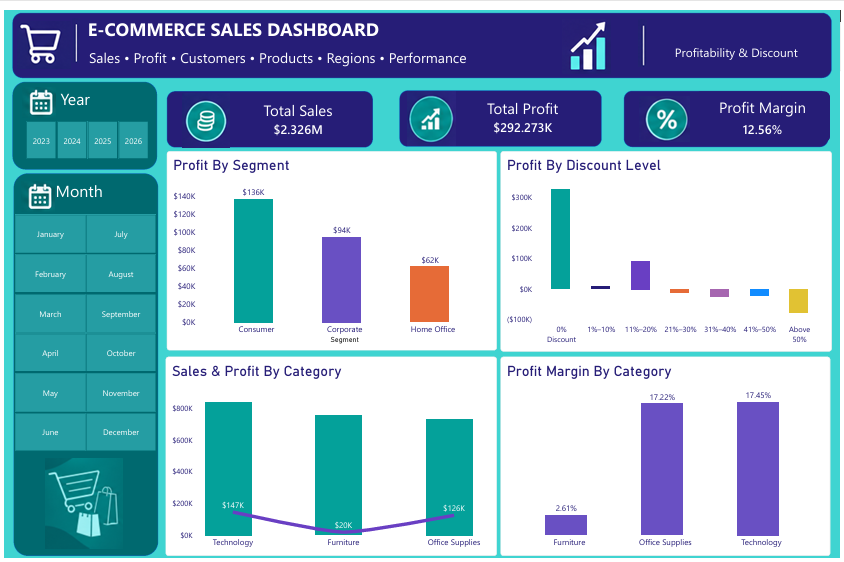

The dashboard page shown, as its layout file describes it:
{"tool":"powerbi","page":{"name":"Profitability & Discount","canvas":[2231,1460],"ordinal":2},"visuals":[{"type":"shape","box":[19.8,6.6,2186.8,174.8],"z":0},{"type":"group","id":"g1","title":"Group 2","box":[1042.7,213.6,550,150.2],"z":0,"group":"g4"},{"type":"image","box":[33,29.7,141.8,128.6],"z":1000},{"type":"group","id":"g2","title":"Group 1","box":[432.1,215.7,550.8,151.7],"z":1000,"group":"g4"},{"type":"image","box":[178.1,23.1,23.1,118.7],"z":2000},{"type":"group","id":"g3","title":"Group 3","box":[1652.5,214.4,550.8,151.7],"z":2000,"group":"g4"},{"type":"textbox","box":[221,16.5,963.1,102.2],"z":3000},{"type":"textbox","box":[224.3,102.2,1144.5,79.2],"z":4000},{"type":"image","box":[1474.3,26.4,155,145.1],"z":5000},{"type":"image","box":[1692,23.1,23.1,131.9],"z":6000},{"type":"textbox","box":[1787.7,89.1,376,59.4],"z":7000},{"type":"shape","box":[19.8,191.3,385.9,234.2],"z":8000},{"type":"shape","box":[1652.5,214.4,545.8,150],"z":8000,"group":"g3"},{"type":"image","box":[46.2,201.2,89.1,89.1],"z":9000},{"type":"shape","box":[1052.6,213.6,540.1,150.2],"z":9000,"group":"g1"},{"type":"textbox","box":[148.4,207.8,155,82.5],"z":10000},{"type":"shape","box":[432.1,215.7,550,150.2],"z":11000,"group":"g2"},{"type":"slicer","fields":{"Values":["ecommerce_analytics ecommerce_sales.Order_Year"]},"box":[36.3,293.5,366.1,105.5],"z":11000},{"type":"cardVisual","fields":{"Data":["ecommerce_analytics ecommerce_sales.Profit Margin %"]},"box":[1842.7,216.7,359.8,134.5],"z":12000,"group":"g3"},{"type":"shape","box":[23.1,435.4,385.9,1019.2],"z":12000},{"type":"image","box":[1042.7,216.4,194.3,144.6],"z":13000,"group":"g1"},{"type":"image","box":[42.9,451.9,89.1,89.1],"z":13000},{"type":"image","box":[1680.5,230.7,164.5,120.7],"z":14000,"group":"g3"},{"type":"textbox","box":[135.2,451.9,171.5,98.9],"z":14000},{"type":"cardVisual","fields":{"Data":["ecommerce_analytics ecommerce_sales.Total Profit"]},"box":[1210.7,222.1,342.5,121.9],"z":15000,"group":"g1"},{"type":"slicer","fields":{"Values":["ecommerce_analytics ecommerce_sales.Order_Month_Name"]},"box":[6.6,544.2,415.6,633.3],"z":15000},{"type":"cardVisual","fields":{"Data":["ecommerce_analytics ecommerce_sales.Total Sales"]},"box":[613.2,218.5,338.7,141.7],"z":16000,"group":"g2"},{"type":"image","box":[49.5,1194,323.2,240.8],"z":16000},{"type":"group","id":"g4","title":"Group 4","box":[432.1,213.6,1771.2,153.8],"z":17000},{"type":"image","box":[458.9,221.4,154.3,144.6],"z":17000,"group":"g2"},{"type":"clusteredColumnChart","title":"Profit By Segment","fields":{"Category":["ecommerce_analytics ecommerce_sales.Segment"],"Y":["ecommerce_analytics ecommerce_sales.Total Profit"]},"box":[432.1,376,880.6,531],"z":18000},{"type":"lineStackedColumnComboChart","title":"Sales & Profit By Category","fields":{"Category":["ecommerce_analytics ecommerce_sales.Category"],"Y":["ecommerce_analytics ecommerce_sales.Total Sales"],"Y2":["ecommerce_analytics ecommerce_sales.Total Profit"]},"box":[428.8,923.5,883.9,531],"z":19000},{"type":"clusteredColumnChart","title":"Profit Margin By Category","fields":{"Y":["ecommerce_analytics ecommerce_sales.Profit Margin"],"Category":["ecommerce_analytics ecommerce_sales.Category"]},"box":[1322.6,923.5,880.6,531],"z":20000},{"type":"clusteredColumnChart","title":"Profit By Discount Level","fields":{"Category":["ecommerce_analytics ecommerce_sales.Discount Level"],"Y":["ecommerce_analytics ecommerce_sales.Total Profit"]},"box":[1322.6,376,883.9,534.3],"z":21000}]}

Visuals, with their boxes in screenshot pixels (x1, y1, x2, y2), scaled from the page's 2231x1460 canvas onto the 844x562 screenshot:
shape: (left=7, top=3, right=835, bottom=70)
"Group 2" group: (left=394, top=82, right=603, bottom=140)
image: (left=12, top=11, right=66, bottom=61)
"Group 1" group: (left=163, top=83, right=372, bottom=141)
image: (left=67, top=9, right=76, bottom=55)
"Group 3" group: (left=625, top=83, right=834, bottom=141)
textbox: (left=84, top=6, right=448, bottom=46)
textbox: (left=85, top=39, right=518, bottom=70)
image: (left=558, top=10, right=616, bottom=66)
image: (left=640, top=9, right=649, bottom=60)
textbox: (left=676, top=34, right=819, bottom=57)
shape: (left=7, top=74, right=153, bottom=164)
shape: (left=625, top=83, right=832, bottom=140)
image: (left=17, top=77, right=51, bottom=112)
shape: (left=398, top=82, right=603, bottom=140)
textbox: (left=56, top=80, right=115, bottom=112)
shape: (left=163, top=83, right=372, bottom=141)
slicer - ecommerce_analytics ecommerce_sales.Order_Year: (left=14, top=113, right=152, bottom=154)
cardVisual - ecommerce_analytics ecommerce_sales.Profit Margin %: (left=697, top=83, right=833, bottom=135)
shape: (left=9, top=168, right=155, bottom=560)
image: (left=394, top=83, right=468, bottom=139)
image: (left=16, top=174, right=50, bottom=208)
image: (left=636, top=89, right=698, bottom=135)
textbox: (left=51, top=174, right=116, bottom=212)
cardVisual - ecommerce_analytics ecommerce_sales.Total Profit: (left=458, top=85, right=588, bottom=132)
slicer - ecommerce_analytics ecommerce_sales.Order_Month_Name: (left=2, top=209, right=160, bottom=453)
cardVisual - ecommerce_analytics ecommerce_sales.Total Sales: (left=232, top=84, right=360, bottom=139)
image: (left=19, top=460, right=141, bottom=552)
"Group 4" group: (left=163, top=82, right=834, bottom=141)
image: (left=174, top=85, right=232, bottom=141)
"Profit By Segment" clusteredColumnChart: (left=163, top=145, right=497, bottom=349)
"Sales & Profit By Category" lineStackedColumnComboChart: (left=162, top=355, right=497, bottom=560)
"Profit Margin By Category" clusteredColumnChart: (left=500, top=355, right=833, bottom=560)
"Profit By Discount Level" clusteredColumnChart: (left=500, top=145, right=835, bottom=350)
